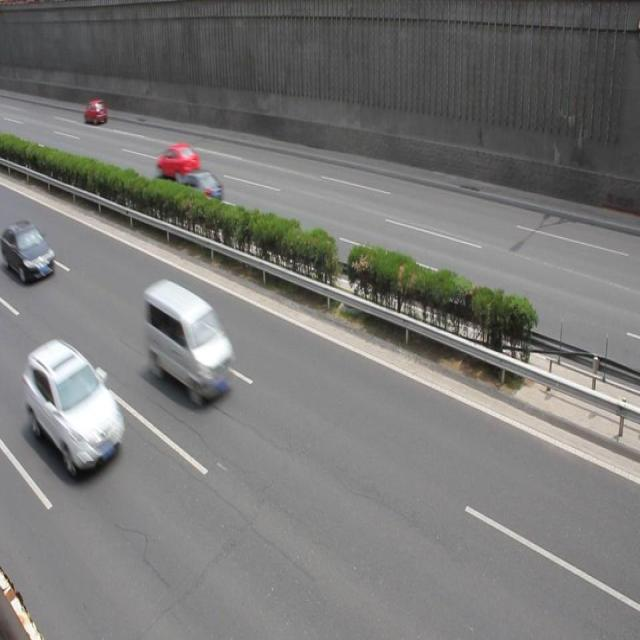car: (26, 338, 126, 476), (146, 278, 236, 406), (1, 216, 56, 283), (175, 170, 226, 214), (156, 142, 201, 184), (84, 98, 108, 126)
